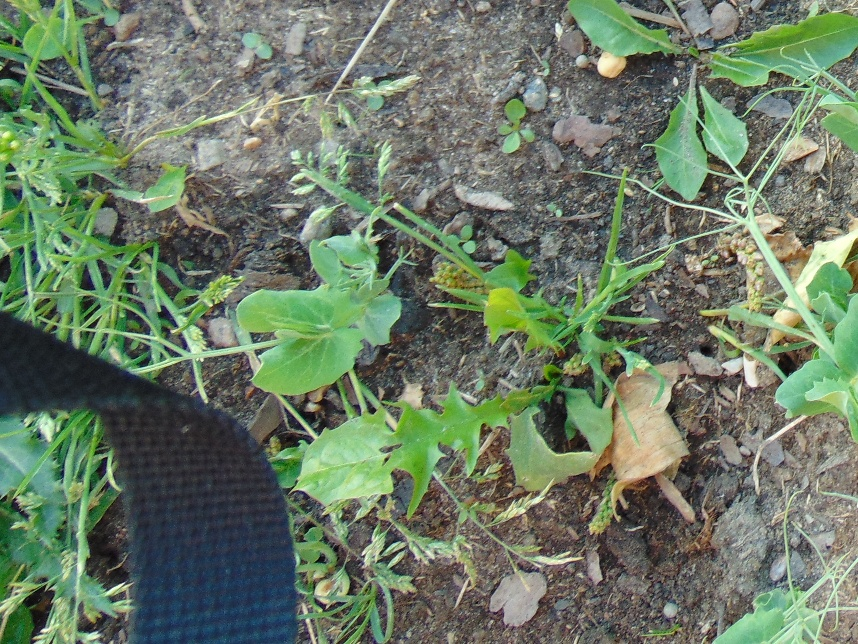crop: (703, 170, 857, 440), (229, 235, 417, 395), (707, 578, 853, 644), (775, 45, 858, 155), (145, 337, 195, 369)
weed: (412, 207, 665, 392), (1, 1, 110, 361), (302, 388, 615, 505), (569, 1, 747, 192), (1, 413, 113, 644), (292, 503, 433, 644), (95, 244, 220, 378), (684, 12, 858, 88), (125, 166, 189, 214), (496, 98, 534, 153), (360, 77, 397, 108), (447, 222, 479, 251), (242, 30, 274, 58)
